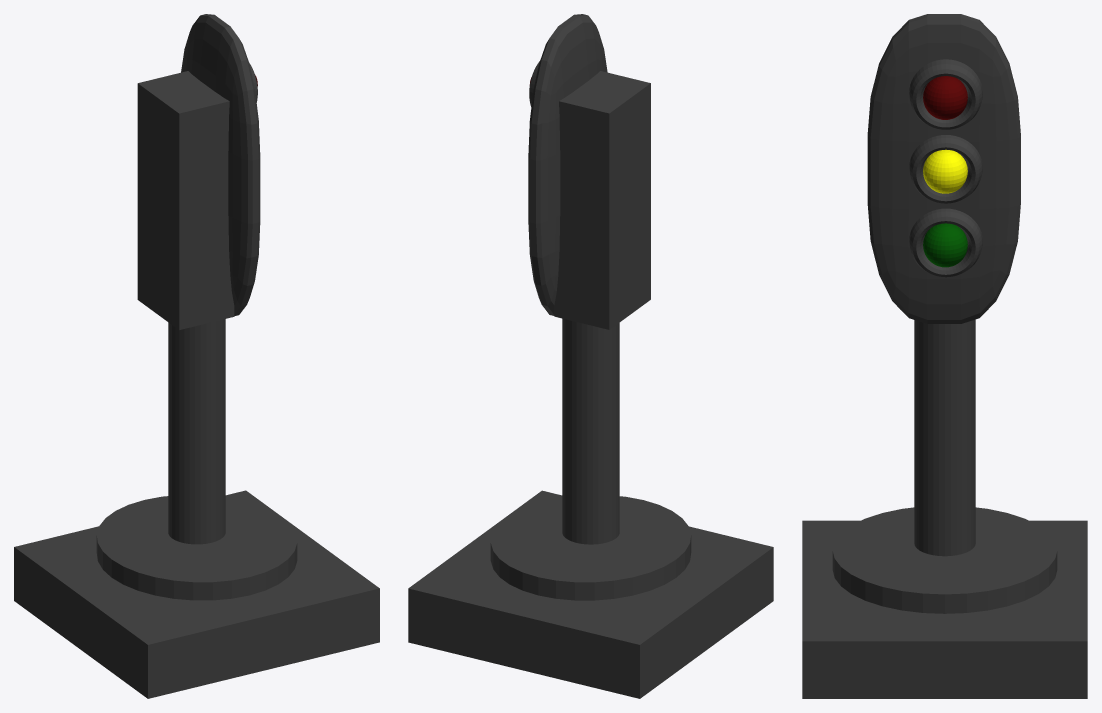
Rendered from TL_yellow.fbx.
3 renders of one model, left to right at view 1: azimuth 30°, elevation 25°; view 2: azimuth 150°, elevation 25°; view 3: azimuth 270°, elevation 25°, orthographic. The views are drawn at different scales.
Visible parts, largest first — view 1: Cube, Cube.002, Cylinder, Cylinder.001, Cube.001; view 2: Cube, Cube.002, Cylinder, Cylinder.001, Cube.001; view 3: Cube, Cube.001, Cylinder, Cylinder.001, R_TORUS, G_TORUS.002, Y_TORUS.001, G_LED, R_LED, Y_LED.
Part boxes in pixels (x1,y1,x2,y2): Cube: (14,490,379,698); Cube.002: (137,71,234,330); Cylinder: (96,496,297,600); Cylinder.001: (168,319,225,544); Cube.001: (181,14,260,316); Cube: (408,490,773,698); Cube.002: (554,71,650,329); Cylinder: (490,496,691,600); Cylinder.001: (562,318,619,544); Cube.001: (528,14,607,315); Cube: (802,520,1087,698); Cube.001: (867,14,1020,323); Cylinder: (832,507,1057,613); Cylinder.001: (914,319,975,556); R_TORUS: (909,59,982,129); G_TORUS.002: (909,208,982,277); Y_TORUS.001: (909,135,982,203); G_LED: (923,223,967,267); R_LED: (923,76,967,119); Y_LED: (923,149,967,193).
Size of the model in its own units: 54.91 by 135 by 54.91.
